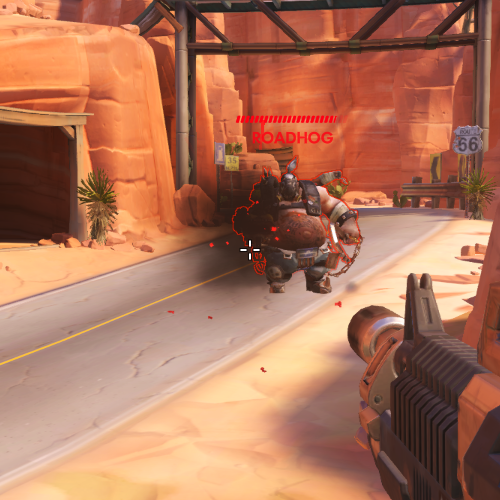hpbar: (235, 115, 349, 124)
